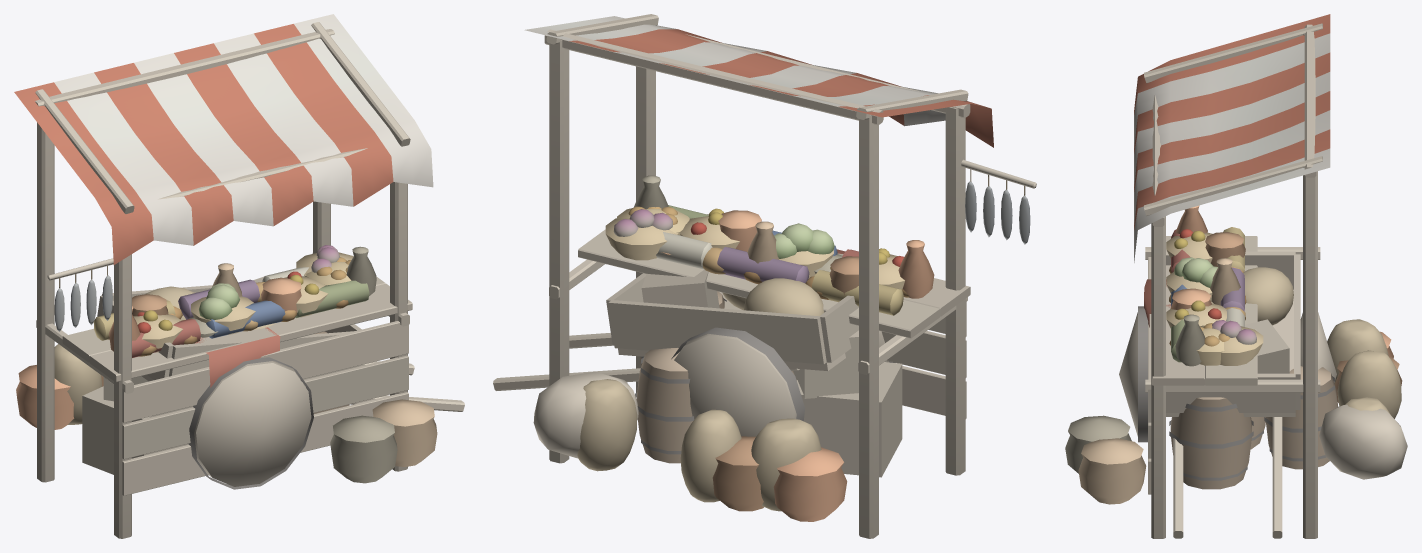
The model's file is market.glb.
3 renders of one model, left to right at view 1: azimuth 30°, elevation 25°; view 2: azimuth 150°, elevation 25°; view 3: azimuth 270°, elevation 25°, orthographic. The views are drawn at different scales.
Parts seen in each view (by area): view 1: market_bread, market_cart, market_pots, market_veg, market_cloth, market_barrels; view 2: market_bread, market_cart, market_veg, market_barrels, market_pots, market_cloth; view 3: market_bread, market_cart, market_pots, market_barrels, market_cloth, market_veg.
Part boxes in pixels (x1,y1,x2,y2): market_bread: [14, 14, 433, 538]; market_cart: [97, 274, 464, 489]; market_pots: [16, 246, 437, 483]; market_veg: [47, 245, 353, 352]; market_cloth: [93, 267, 369, 387]; market_barrels: [82, 331, 349, 474]; market_bread: [524, 14, 993, 538]; market_cart: [493, 253, 895, 436]; market_veg: [577, 159, 1036, 471]; market_barrels: [635, 291, 902, 477]; market_pots: [633, 175, 934, 521]; market_cloth: [533, 205, 903, 458]; market_bread: [1134, 14, 1401, 538]; market_cart: [1119, 251, 1336, 538]; market_pots: [1065, 205, 1402, 504]; market_barrels: [1169, 366, 1338, 489]; market_cloth: [1144, 227, 1407, 479]; market_veg: [1166, 229, 1390, 414].
Bounding box in the file's own units: 2.91 × 2.53 × 2.07.
